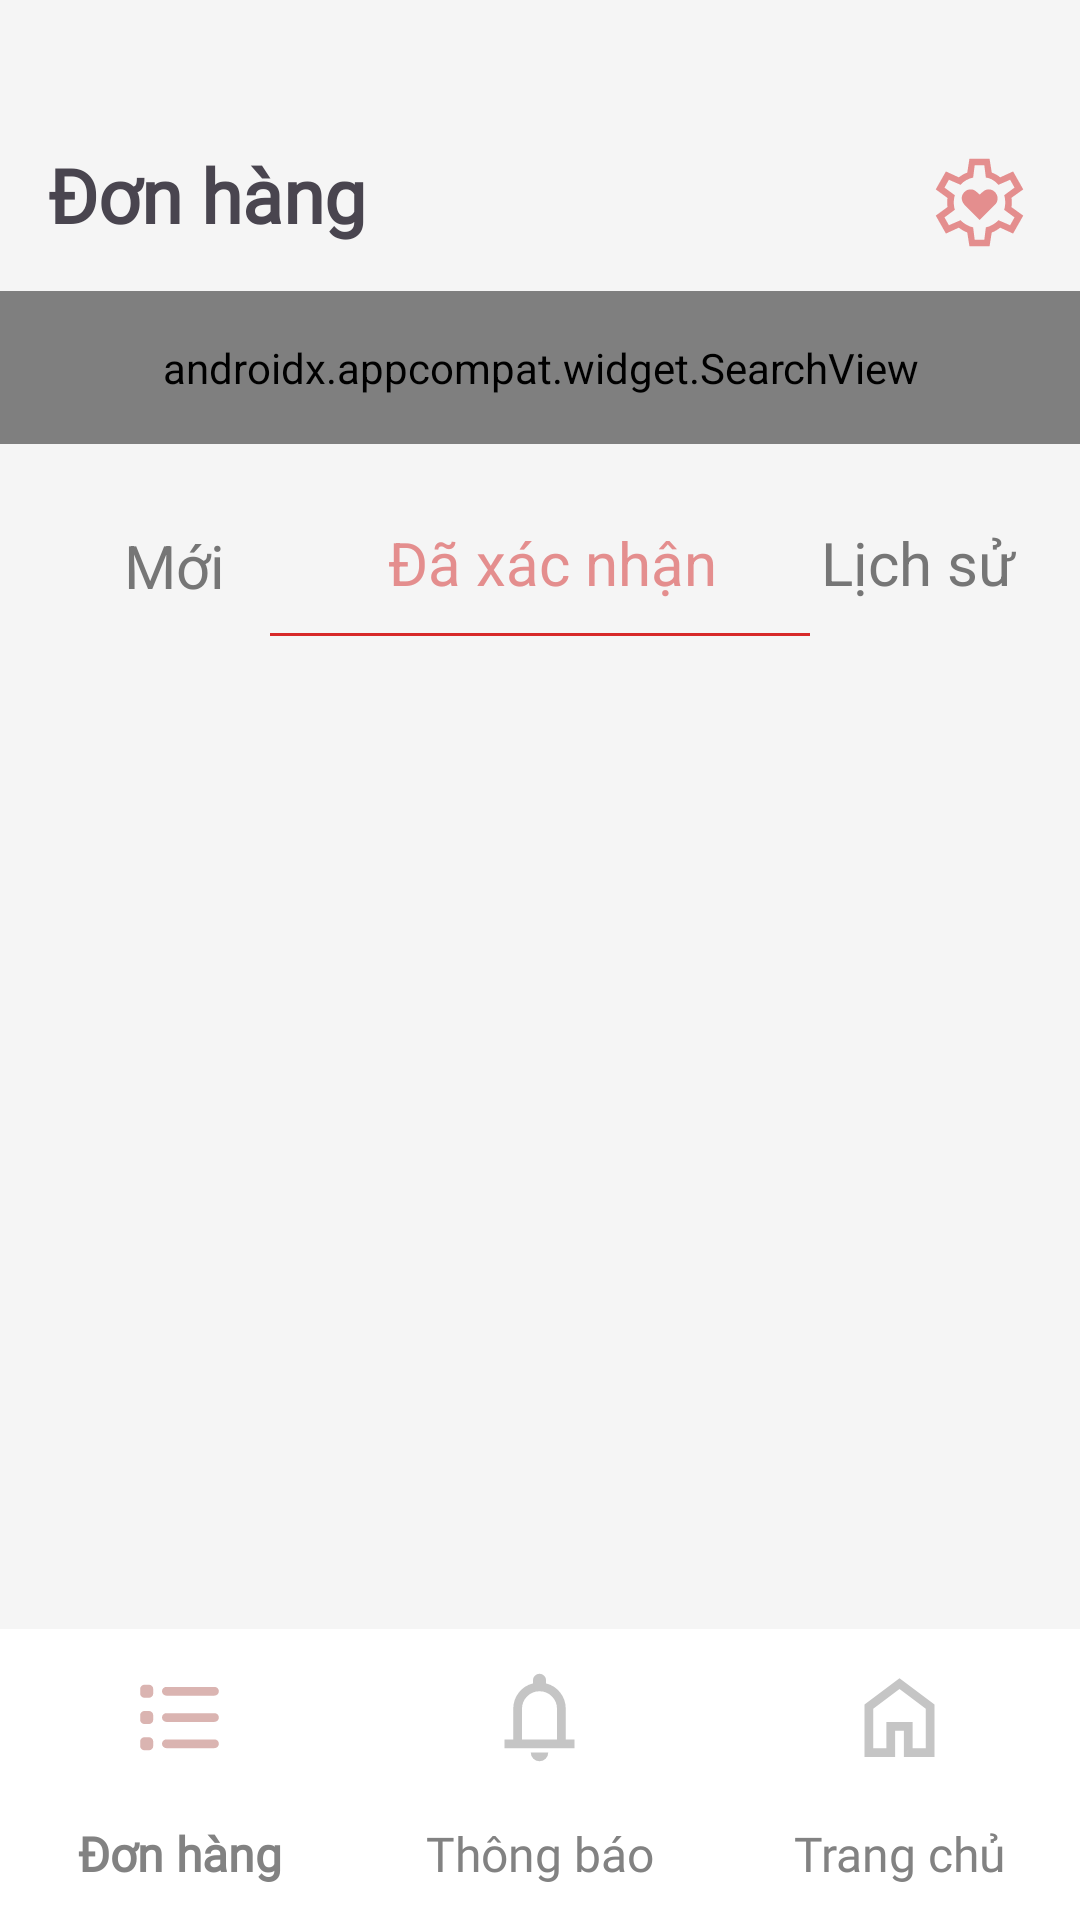

Screen size 1080x1920. Icon name, then its center in pixels as point (x, y):
settings heart: point (979, 202)
